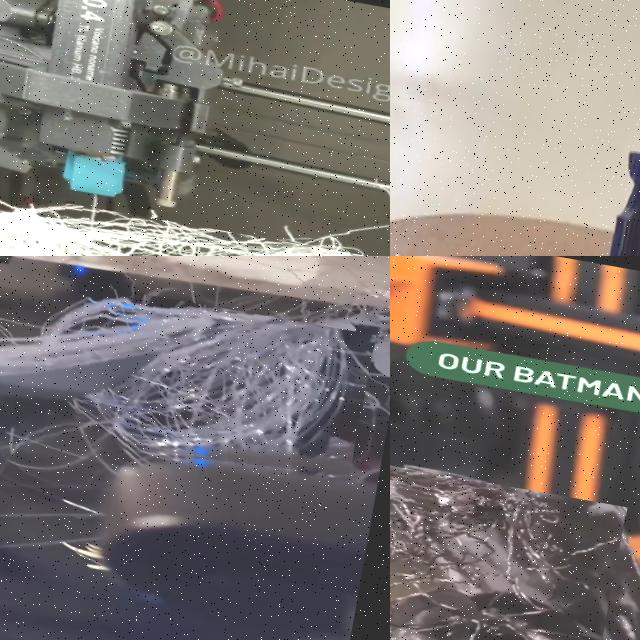spaghetti: (18, 276, 376, 496), (390, 432, 627, 640), (0, 184, 390, 256)
